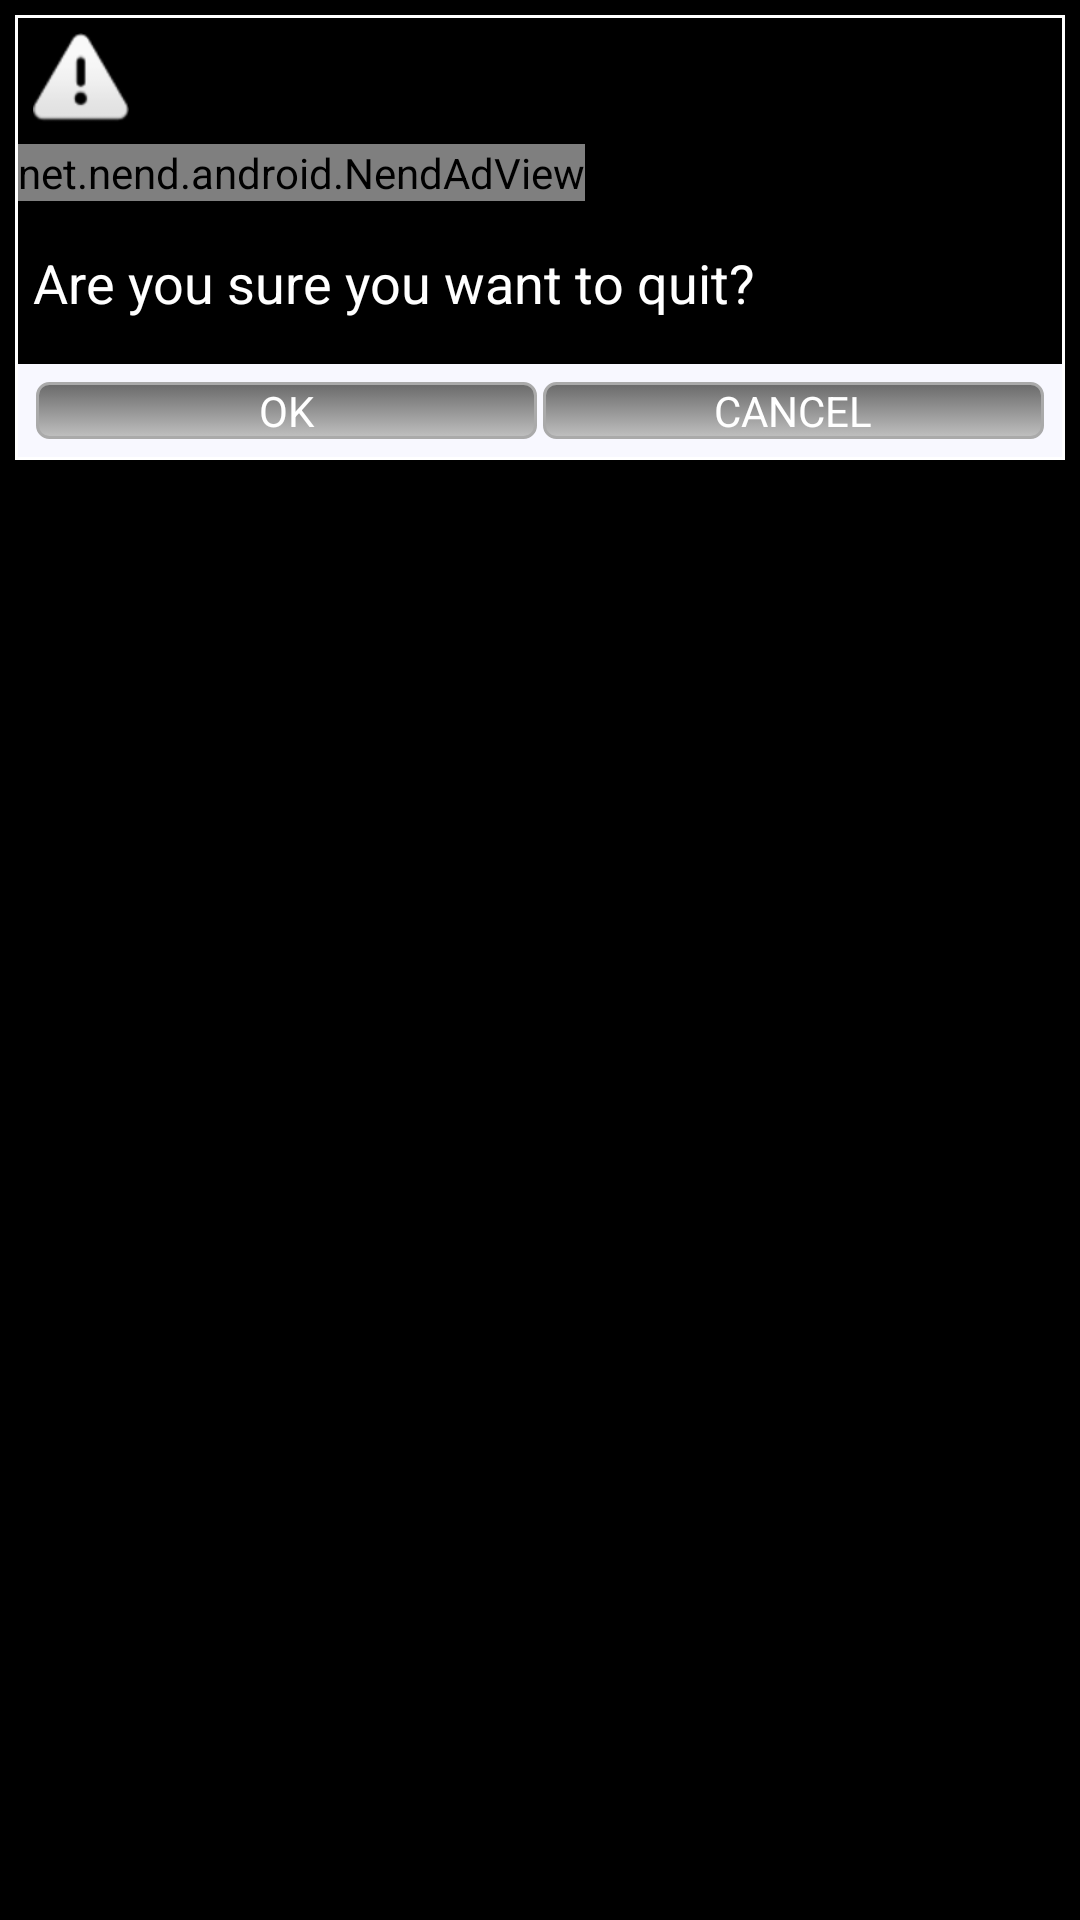

Point at icon controls on the screen. Image size 1080w x 1920h, points as point (x, y).
alert: point (81, 76)
